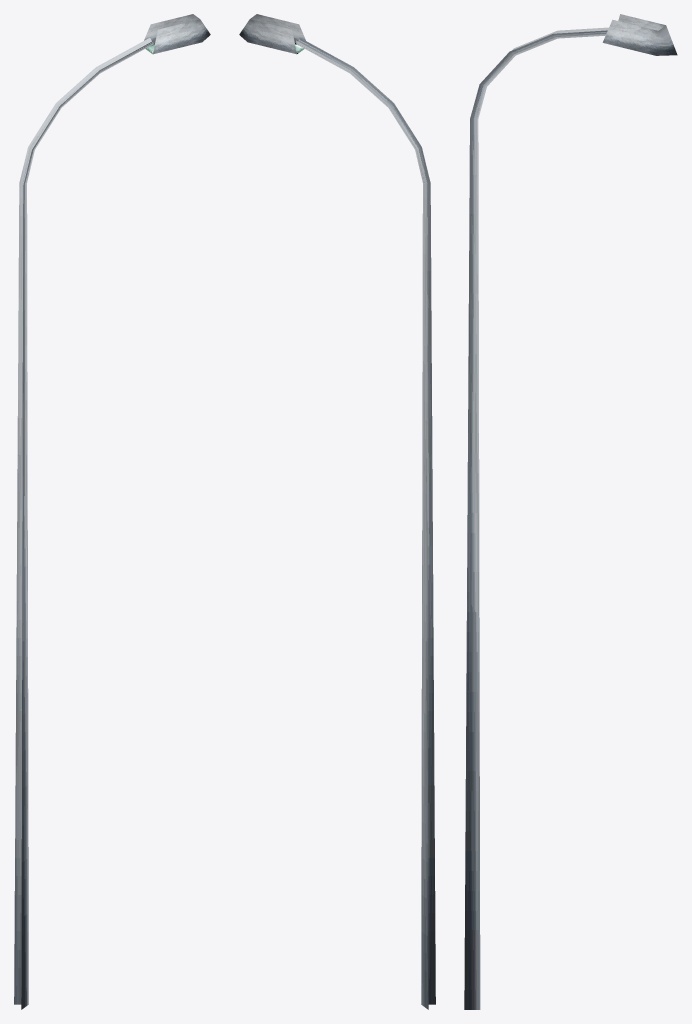
File: stage-newy-p4-85.glb
3 views of the same model, side by side, from view 1: azimuth 30°, elevation 25°; view 2: azimuth 150°, elevation 25°; view 3: azimuth 330°, elevation 25° (orthographic). The views are drawn at different scales.
Bounding box in the file's own units: 2.73 × 12.79 × 0.2748.
1 material, 1 textured.
